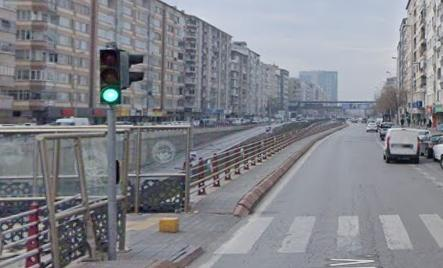greenlight: (100, 47, 123, 105)
